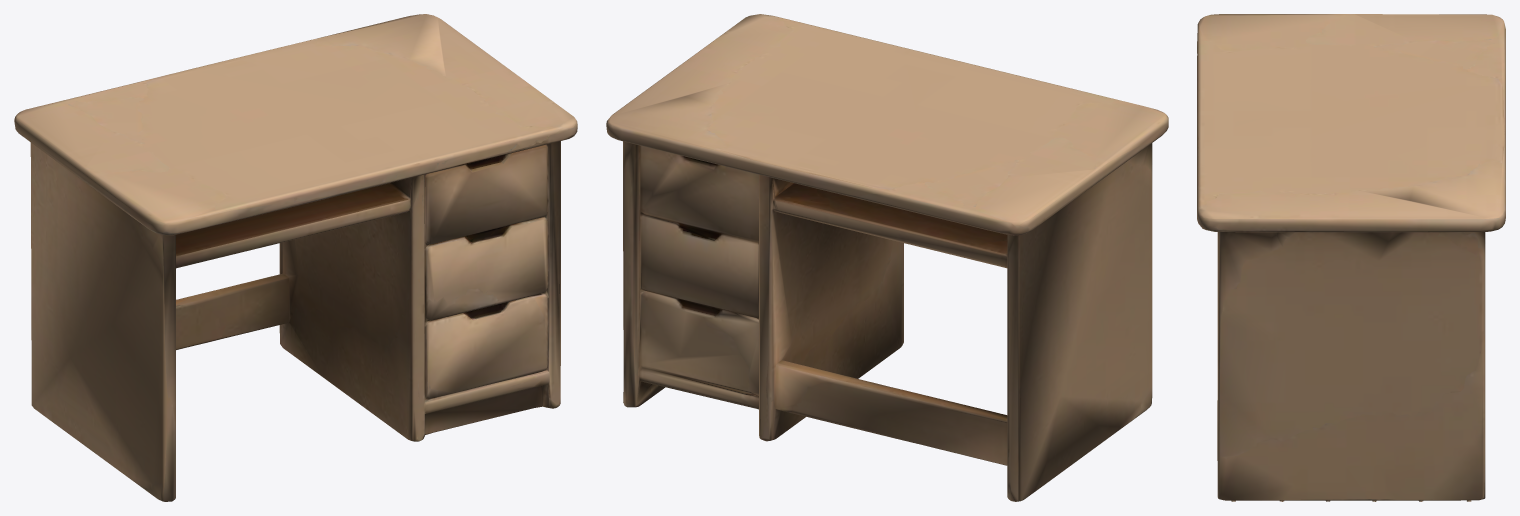
The model's file is desk-lite.glb.
3 views of the same model, side by side, from view 1: azimuth 30°, elevation 25°; view 2: azimuth 150°, elevation 25°; view 3: azimuth 270°, elevation 25° (orthographic).
Visible parts, largest first — view 1: node_0; view 2: node_0; view 3: node_0.
Part boxes in pixels (x1,y1,x2,y2): node_0: [14, 14, 577, 501]; node_0: [606, 14, 1168, 501]; node_0: [1197, 14, 1505, 501].
Size of the model in its own units: 0.9092 by 0.5995 by 0.575.
Materials: 1 (1 with a texture image).
